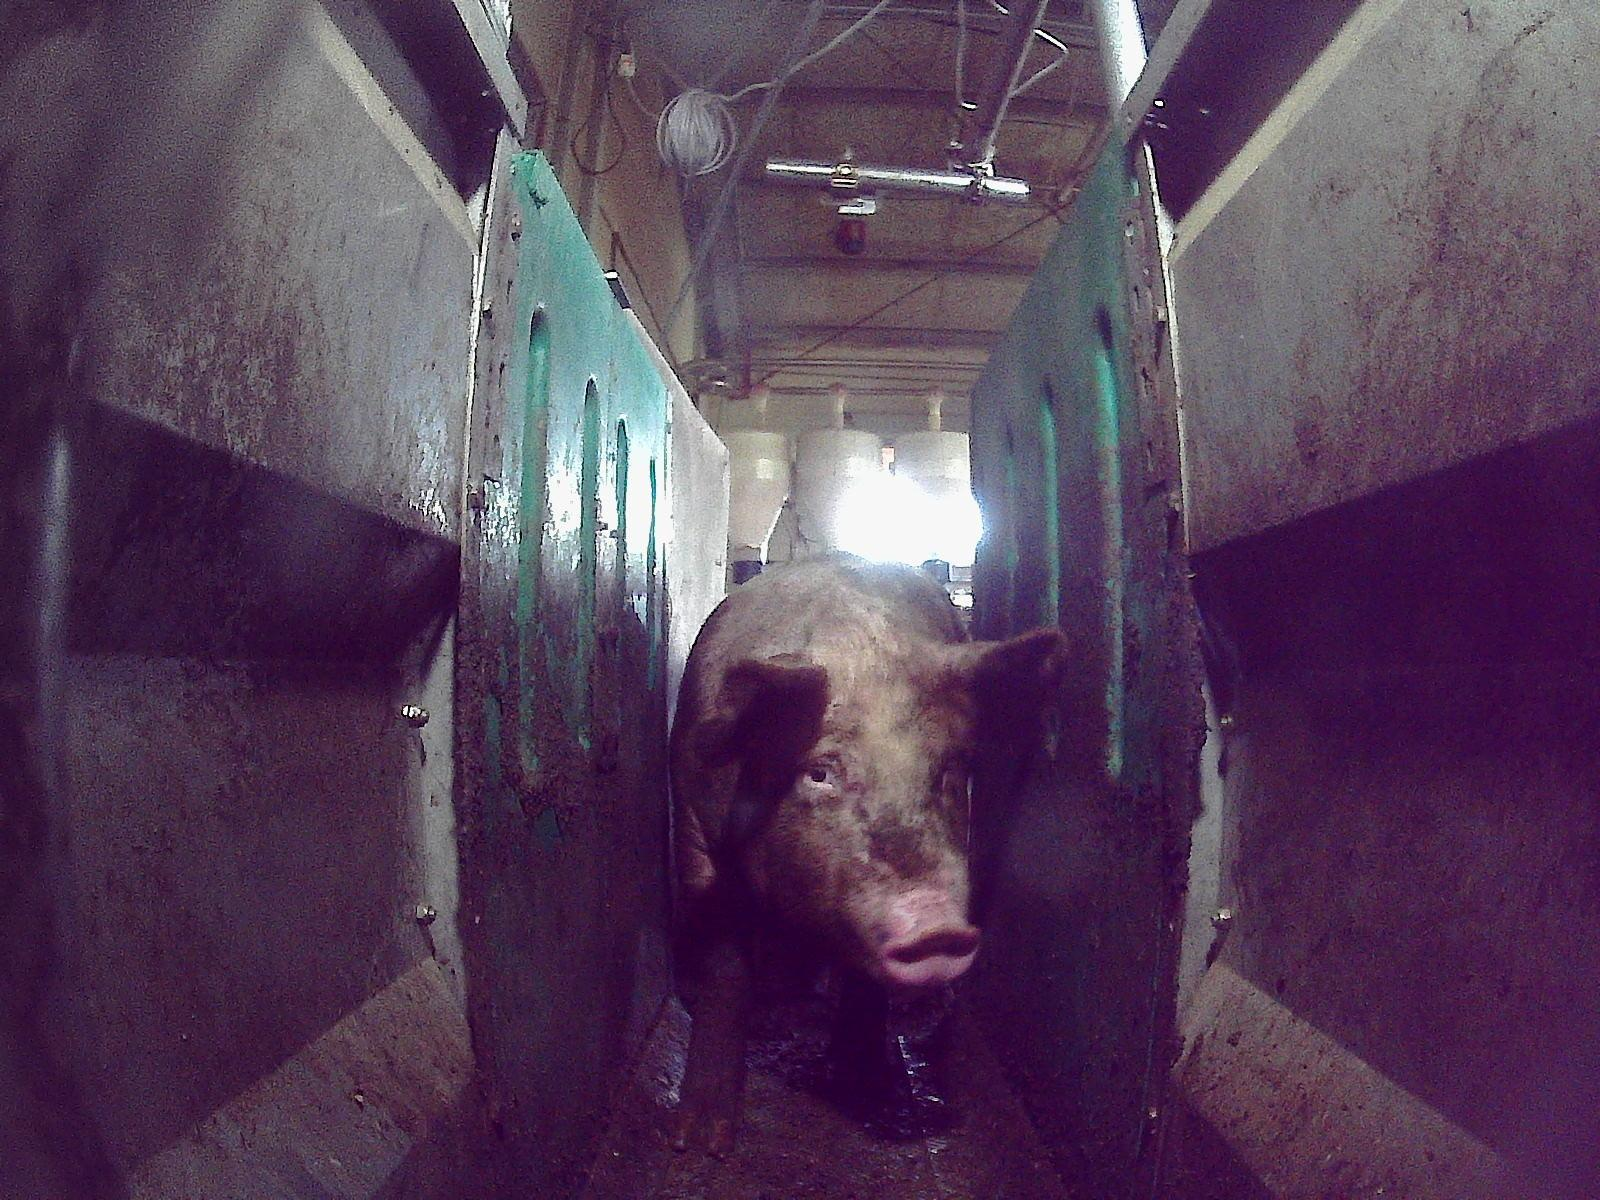Face: (758, 662, 979, 987)
